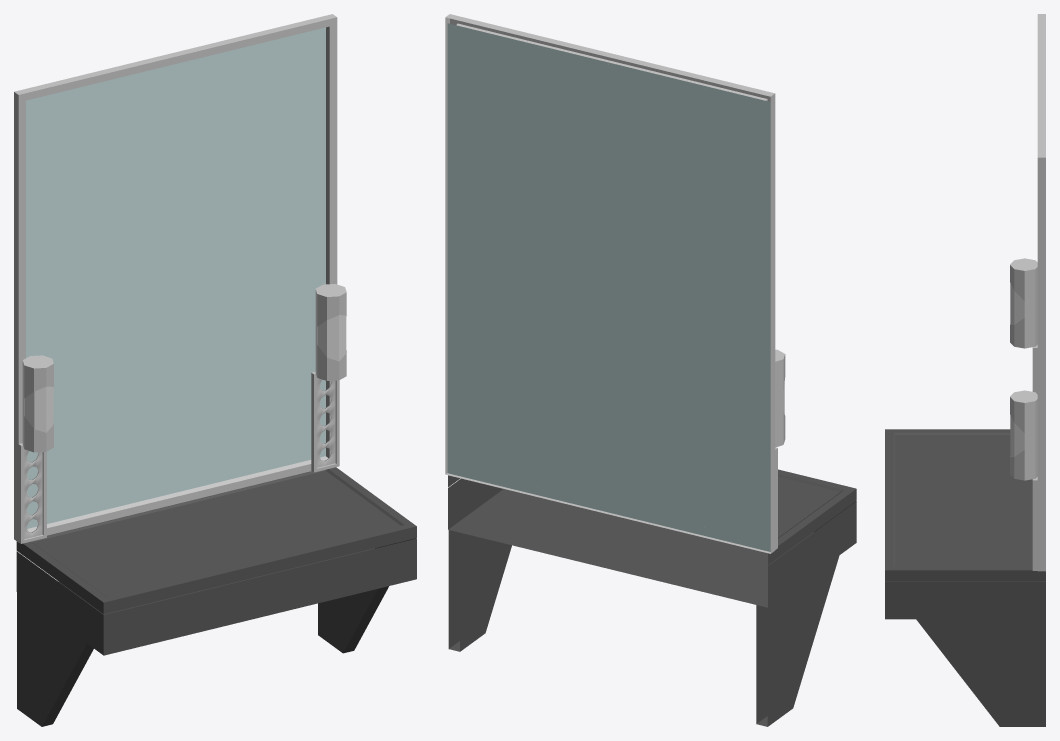
File: m_duck_nightStand_lod1.fbx
3 views of the same model, side by side, from view 1: azimuth 30°, elevation 25°; view 2: azimuth 150°, elevation 25°; view 3: azimuth 270°, elevation 25° (orthographic). The views are drawn at different scales.
Visible parts, largest first — view 1: polySurface22, polySurface36, polySurface35, polySurface34; view 2: polySurface22, polySurface36, polySurface35; view 3: polySurface36, polySurface35, polySurface34.
Boxes of the visible parts, <box> form: polySurface22: <box>26,27,325,528</box>; polySurface36: <box>16,467,416,726</box>; polySurface35: <box>14,14,346,543</box>; polySurface34: <box>24,315,346,432</box>; polySurface22: <box>447,23,770,551</box>; polySurface36: <box>448,469,856,726</box>; polySurface35: <box>445,14,785,553</box>; polySurface36: <box>885,429,1045,726</box>; polySurface35: <box>1010,14,1045,571</box>; polySurface34: <box>1010,283,1024,456</box>.
Size of the model in its own units: 28.68 by 52.78 by 13.47.
